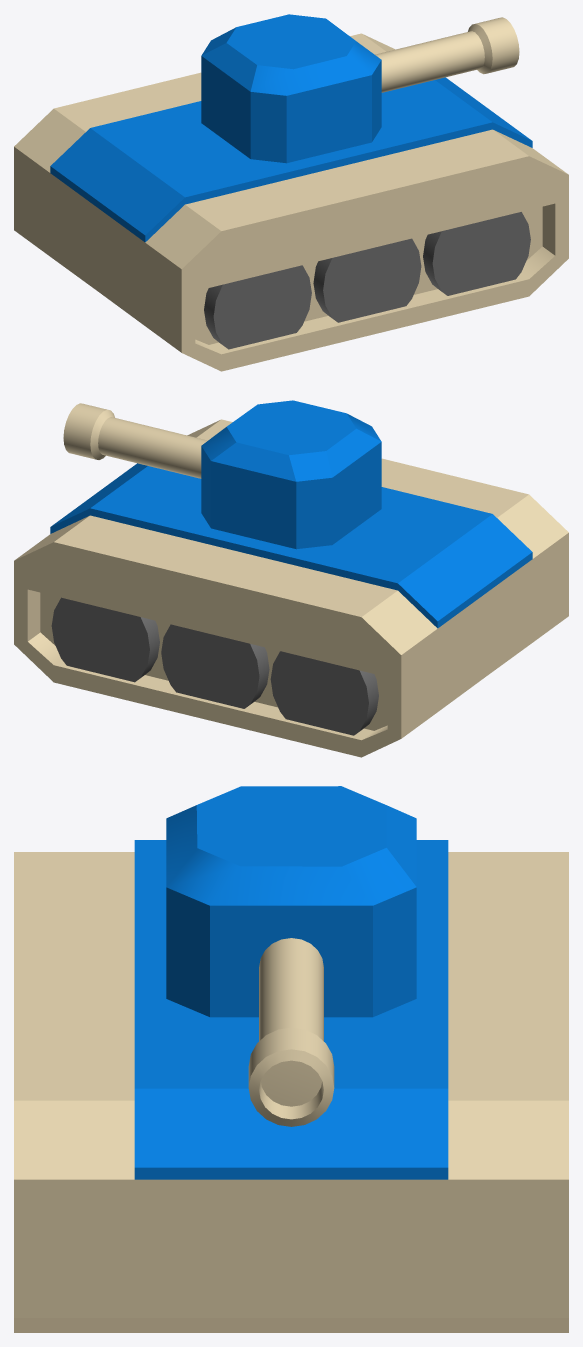
File: Tank_Classic 1.fbx
The picture shows the model from 3 angles, top to bottom: view 1: azimuth 30°, elevation 25°; view 2: azimuth 150°, elevation 25°; view 3: azimuth 270°, elevation 25°; orthographic projection. The views are drawn at different scales.
Visible parts, largest first — view 1: Tank_Base, Tank_Uperbase, Tank_Wheels1, Tank_Wheels, Tank_Wheels2, Tank_Baral; view 2: Tank_Base, Tank_Uperbase, Tank_Wheels4, Tank_Wheels5, Tank_Wheels3, Tank_Baral; view 3: Tank_Base, Tank_Uperbase, Tank_Baral.
Boxes of the visible parts, x1,y1,x2,y2 form: Tank_Base: [14, 33, 568, 371]; Tank_Uperbase: [201, 14, 381, 163]; Tank_Wheels1: [204, 265, 311, 349]; Tank_Wheels: [313, 238, 421, 322]; Tank_Wheels2: [423, 212, 530, 295]; Tank_Baral: [375, 17, 519, 92]; Tank_Base: [14, 419, 568, 757]; Tank_Uperbase: [201, 400, 381, 549]; Tank_Wheels4: [161, 624, 269, 708]; Tank_Wheels5: [270, 651, 378, 735]; Tank_Wheels3: [51, 597, 159, 682]; Tank_Baral: [63, 403, 207, 478]; Tank_Base: [14, 840, 568, 1332]; Tank_Uperbase: [166, 786, 416, 1017]; Tank_Baral: [248, 938, 334, 1126].
Bounding box in the file's own units: 30.03 × 16.12 × 21.22.
